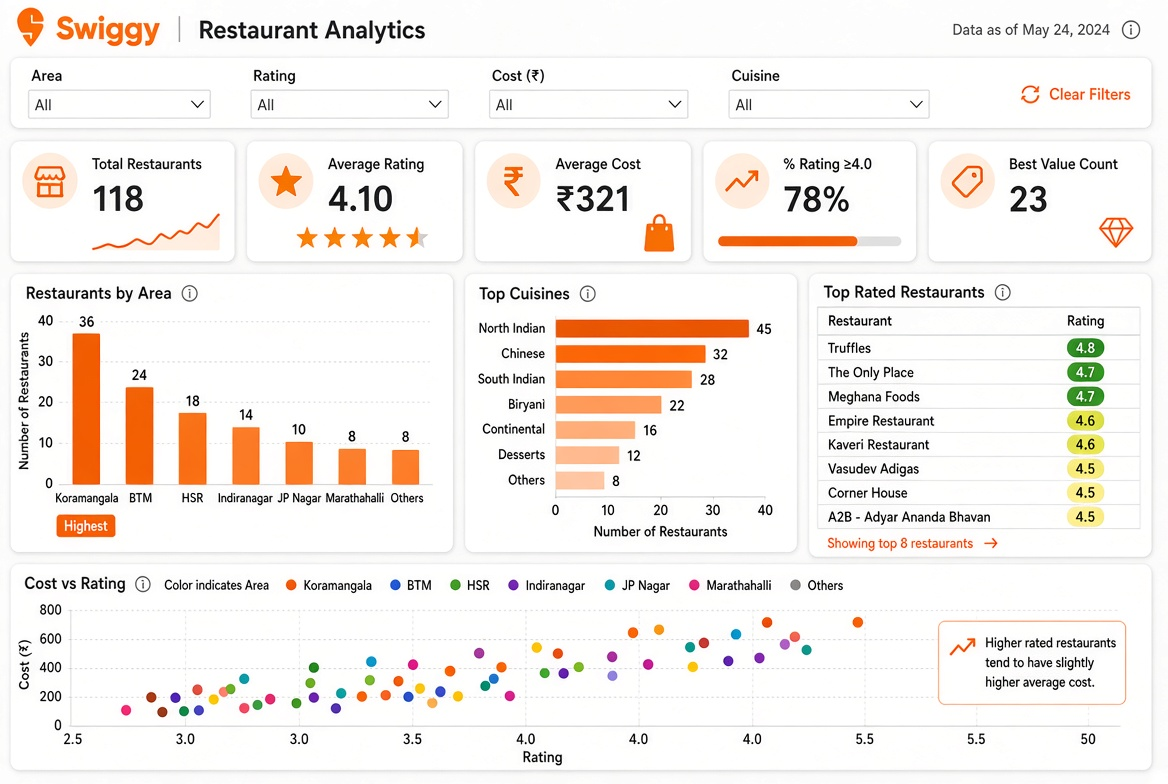

The page's visual inventory and layout, read from the dashboard file:
{"tool":"powerbi","page":{"name":"Page 1","canvas":[1920,1080],"ordinal":0},"visuals":[{"type":"shape","box":[46.4,260.7,283.9,96.4],"z":0},{"type":"shape","box":[439.3,260.7,283.9,48.2],"z":1},{"type":"shape","box":[832.1,260.7,283.9,96.4],"z":2},{"type":"shape","box":[1175,260.7,283.9,96.4],"z":3},{"type":"shape","box":[1560.7,260.7,283.9,96.4],"z":4},{"type":"shape","box":[30.4,87.5,1835.7,85.7],"z":5},{"type":"columnChart","fields":{"Category":["swiggy_cleaned.Area"],"Y":["Count(swiggy_cleaned.Shop_Name)"]},"box":[46.4,448.2,676.8,298.2],"z":6},{"type":"clusteredBarChart","fields":{"Category":["swiggy_cleaned.Cuisine"],"Y":["CountNonNull(swiggy_cleaned.Shop_Name)"]},"box":[773.9,417.8,522.8,356.1],"z":7},{"type":"tableEx","fields":{"Values":["swiggy_cleaned.Shop_Name","swiggy_cleaned.Rating"]},"box":[1352.3,438.4,514.6,325.2],"z":8},{"type":"scatterChart","title":"Cost vs Rating","fields":{"Series":["swiggy_cleaned.Area"],"X":["swiggy_cleaned.Rating"],"Y":["swiggy_cleaned.Cost_for_Two"]},"box":[45.3,796.6,1850.4,265.5],"z":9},{"type":"cardVisual","fields":{"Data":["Count(swiggy_cleaned.Shop_Name)"]},"box":[121.4,267.6,137.9,90.6],"z":10},{"type":"cardVisual","fields":{"Data":["Avg(swiggy_cleaned.Rating)"]},"box":[510.5,238.8,137.9,90.6],"z":11},{"type":"cardVisual","fields":{"Data":["Avg(swiggy_cleaned.Cost_for_Two)"]},"box":[874.8,263.5,197.6,90.6],"z":12},{"type":"cardVisual","fields":{"Data":["swiggy_cleaned.Total Restaurants over 4.0"]},"box":[1296.4,267.9,112.5,89.3],"z":13},{"type":"slicer","fields":{"Values":["swiggy_cleaned.Area"]},"box":[30.6,90.1,300.8,77.4],"z":14},{"type":"slicer","fields":{"Values":["swiggy_cleaned.Rating"]},"box":[403.5,90.1,300.8,77.4],"z":15},{"type":"slicer","fields":{"Values":["swiggy_cleaned.Cost_for_Two"]},"box":[751.1,90.1,300.8,77.4],"z":16},{"type":"slicer","fields":{"Values":["swiggy_cleaned.Cuisine"]},"box":[1073.5,88.3,300.8,77.4],"z":17}]}

Visuals, with their boxes on the page's 1920x1080 design canvas (x1, y1, x2, y2). These are canvas units, not pixel positions in the 1168x784 screenshot, which may show the page scaled, cropped or inside an application window:
shape: 46, 261, 330, 357
shape: 439, 261, 723, 309
shape: 832, 261, 1116, 357
shape: 1175, 261, 1459, 357
shape: 1561, 261, 1845, 357
shape: 30, 88, 1866, 173
columnChart - swiggy_cleaned.Area x Count(swiggy_cleaned.Shop_Name): 46, 448, 723, 746
clusteredBarChart - swiggy_cleaned.Cuisine x CountNonNull(swiggy_cleaned.Shop_Name): 774, 418, 1297, 774
tableEx - swiggy_cleaned.Shop_Name x swiggy_cleaned.Rating: 1352, 438, 1867, 764
"Cost vs Rating" scatterChart: 45, 797, 1896, 1062
cardVisual - Count(swiggy_cleaned.Shop_Name): 121, 268, 259, 358
cardVisual - Avg(swiggy_cleaned.Rating): 510, 239, 648, 329
cardVisual - Avg(swiggy_cleaned.Cost_for_Two): 875, 264, 1072, 354
cardVisual - swiggy_cleaned.Total Restaurants over 4.0: 1296, 268, 1409, 357
slicer - swiggy_cleaned.Area: 31, 90, 331, 168
slicer - swiggy_cleaned.Rating: 404, 90, 704, 168
slicer - swiggy_cleaned.Cost_for_Two: 751, 90, 1052, 168
slicer - swiggy_cleaned.Cuisine: 1074, 88, 1374, 166
